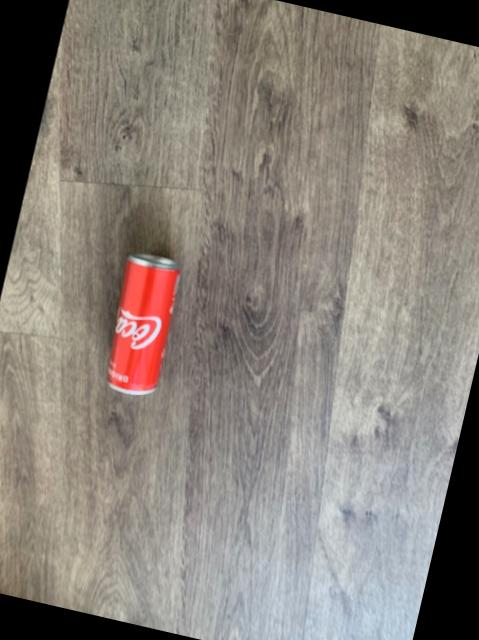metal: (106, 251, 177, 392)
